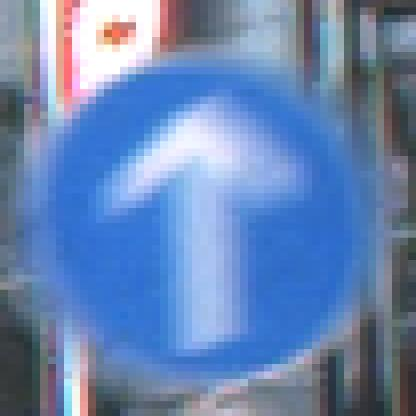AheadOnly: (41, 38, 377, 373)
